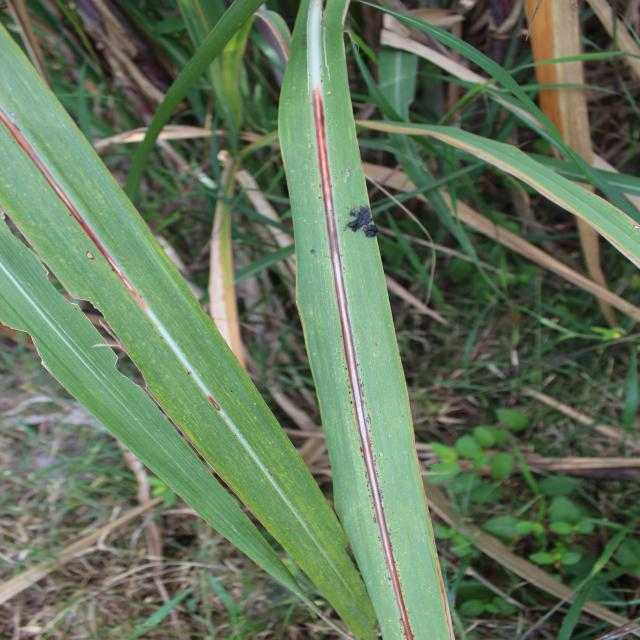Sugarcane: (0, 0, 365, 624), (280, 0, 409, 630), (1, 4, 179, 344), (351, 119, 640, 292), (120, 0, 284, 216), (343, 3, 541, 111), (495, 92, 638, 230), (4, 0, 129, 138), (374, 137, 468, 277), (169, 0, 236, 135), (121, 0, 209, 85), (209, 9, 263, 143), (516, 150, 636, 198), (375, 11, 423, 129), (121, 108, 172, 211), (246, 8, 294, 116), (578, 159, 640, 235), (231, 240, 297, 286), (513, 50, 636, 72), (618, 342, 640, 440), (510, 82, 628, 100)
